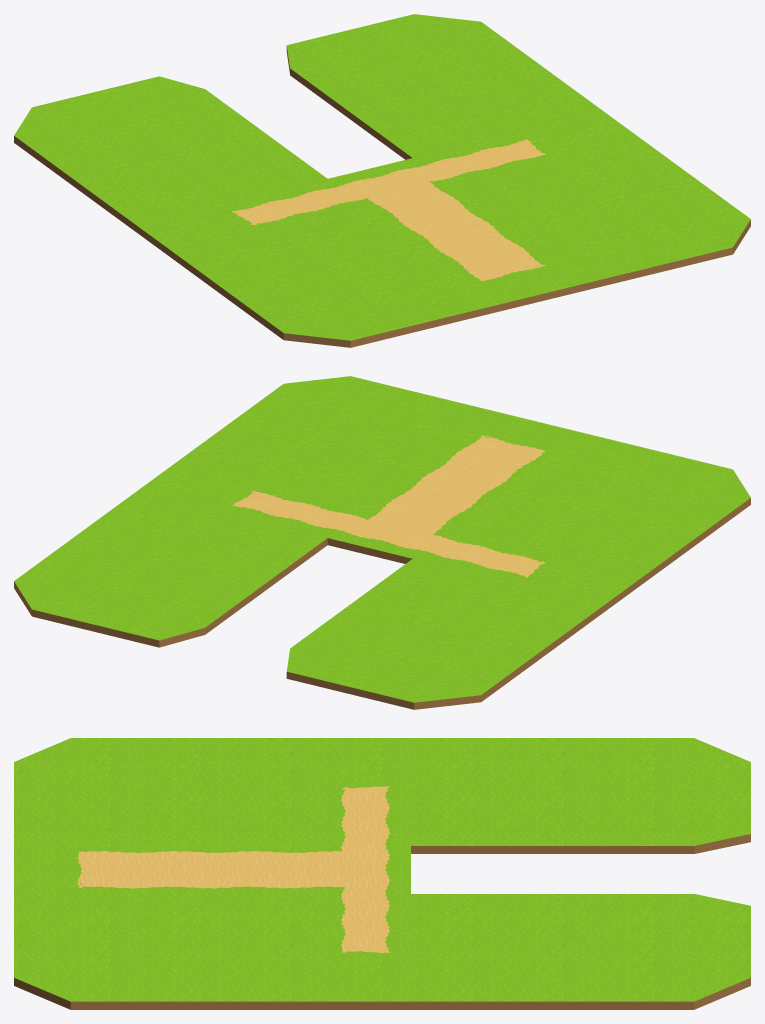
File: surface-06-CLHKXsRZ.glb
3 renders of one model, top to bottom at view 1: azimuth 30°, elevation 25°; view 2: azimuth 150°, elevation 25°; view 3: azimuth 270°, elevation 25°, orthographic. The views are drawn at different scales.
Parts seen in each view (by area): view 1: FLC_Surface_06, FLC_Regions_06; view 2: FLC_Surface_06, FLC_Regions_06; view 3: FLC_Surface_06, FLC_Regions_06.
Part boxes in pixels (x1,y1,x2,y2): FLC_Surface_06: [14, 14, 750, 347]; FLC_Regions_06: [232, 139, 545, 280]; FLC_Surface_06: [14, 376, 750, 709]; FLC_Regions_06: [232, 435, 545, 577]; FLC_Surface_06: [14, 738, 750, 1009]; FLC_Regions_06: [77, 786, 389, 952].
Size of the model in its own units: 22 by 0.324 by 26.
Materials: 3 (2 with a texture image).
